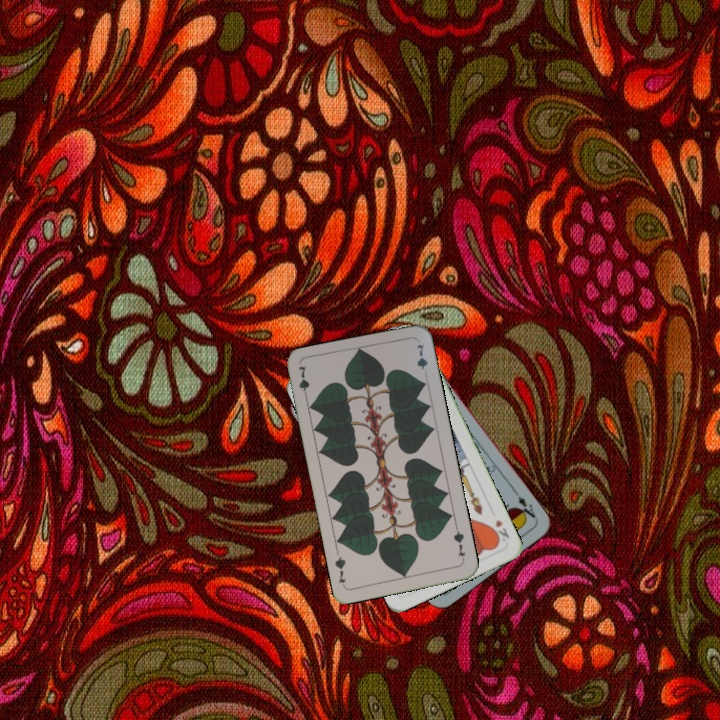EA: (511, 488, 540, 523)
G7: (449, 523, 468, 564), (294, 362, 312, 403)
HK: (487, 515, 512, 545)
